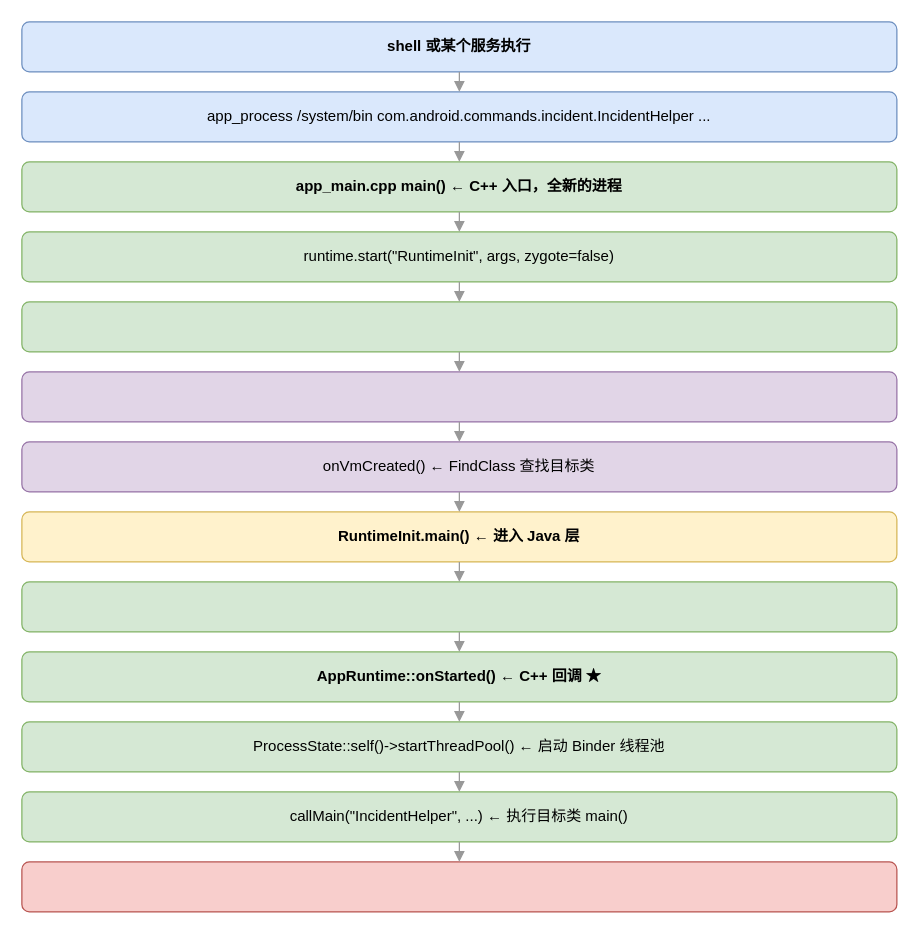
The diagram is 919 pixels wide and 934 high, and some of its shapes have lost their labels. The shapes that lost their labels are listed below. From the top down, each one's box as (x1, y1, x2, y2) in pixels, then its label:
(21, 301, 897, 352): AndroidRuntime::start()
(21, 371, 897, 422): startVm() ← 创建新的 ART 虚拟机
(21, 581, 897, 632): nativeFinishInit() ← JNI 调用
(21, 861, 897, 912): IPCThreadState::self()->stopProcess() ← 执行完毕，清理退出
